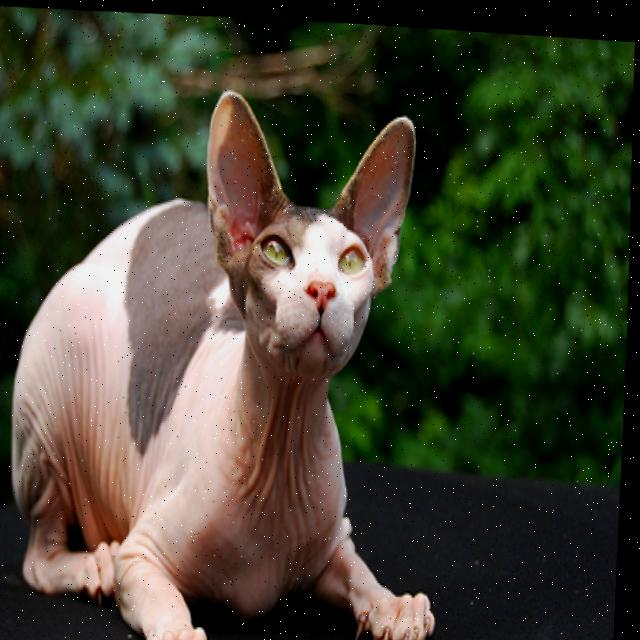Sphynx: (0, 66, 463, 640)
